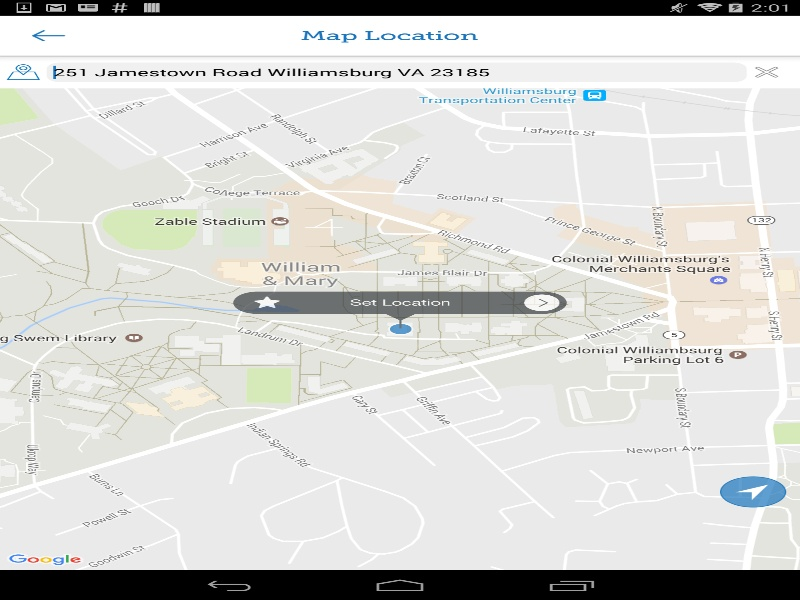Input: (46, 62, 746, 82)
